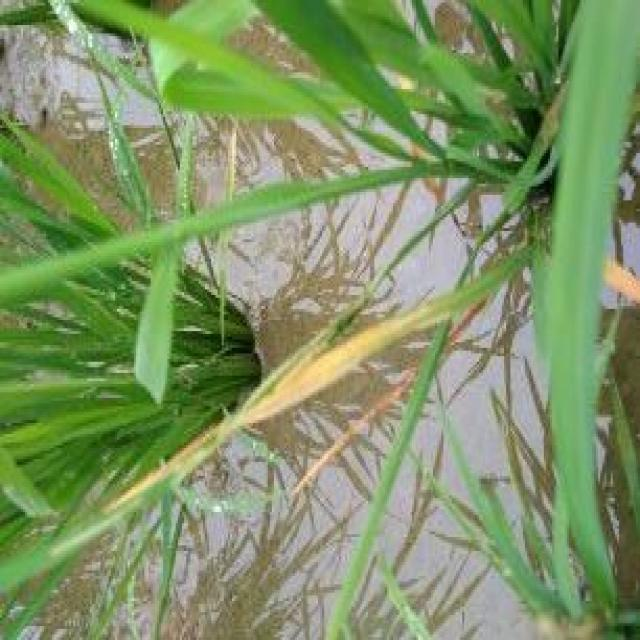Tungro: (232, 295, 456, 462), (594, 232, 640, 317)
